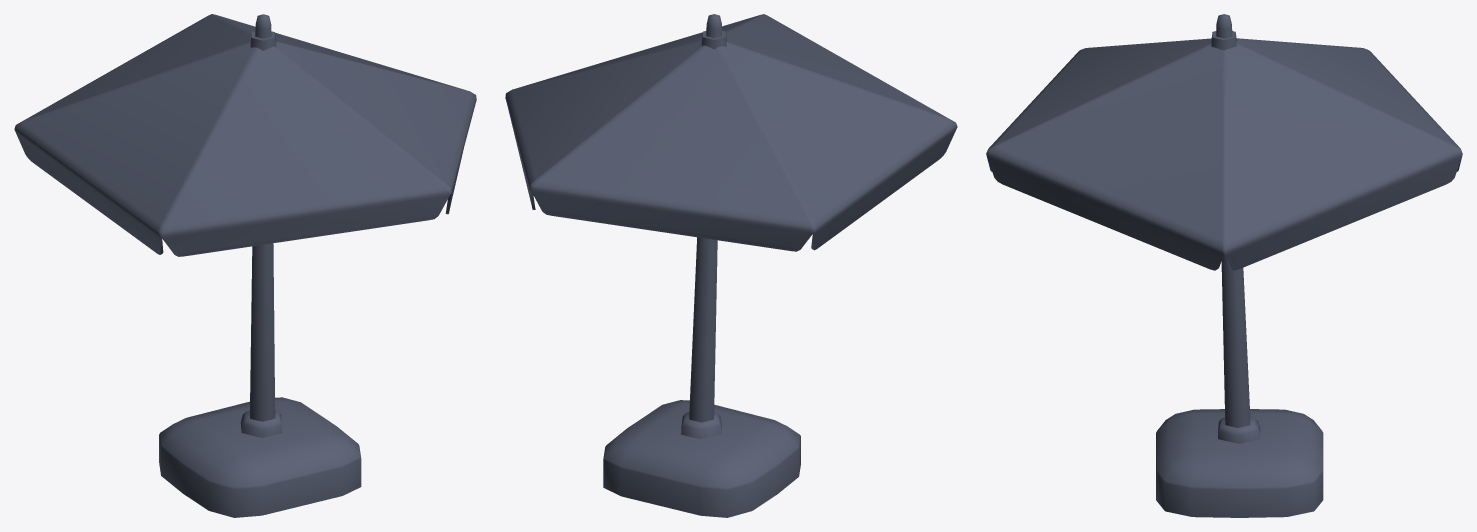
The model's file is Parasol.FBX.
3 views of the same model, side by side, from view 1: azimuth 30°, elevation 25°; view 2: azimuth 150°, elevation 25°; view 3: azimuth 270°, elevation 25° (orthographic). The views are drawn at different scales.
Parts seen in each view (by area): view 1: Parasol; view 2: Parasol; view 3: Parasol.
Boxes of the visible parts, x1,y1,x2,y2 form: Parasol: [14, 14, 476, 517]; Parasol: [505, 14, 957, 517]; Parasol: [986, 14, 1462, 517].
Size of the model in its own units: 261 by 299 by 278.
